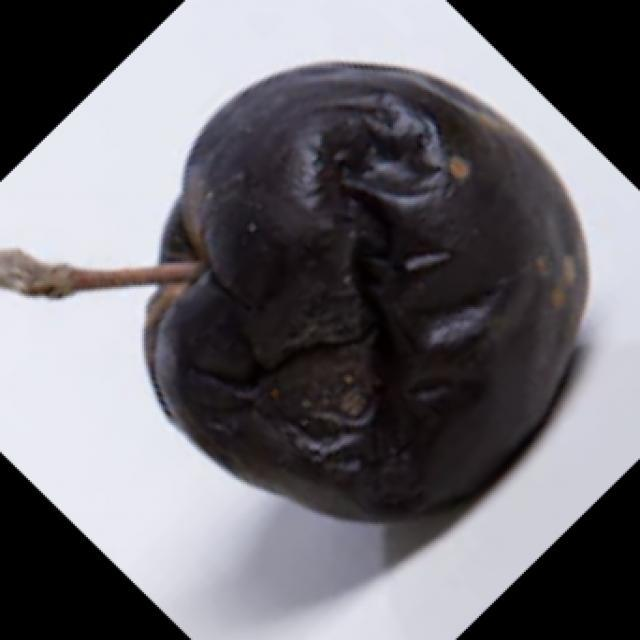Rotten: (136, 73, 592, 530)
